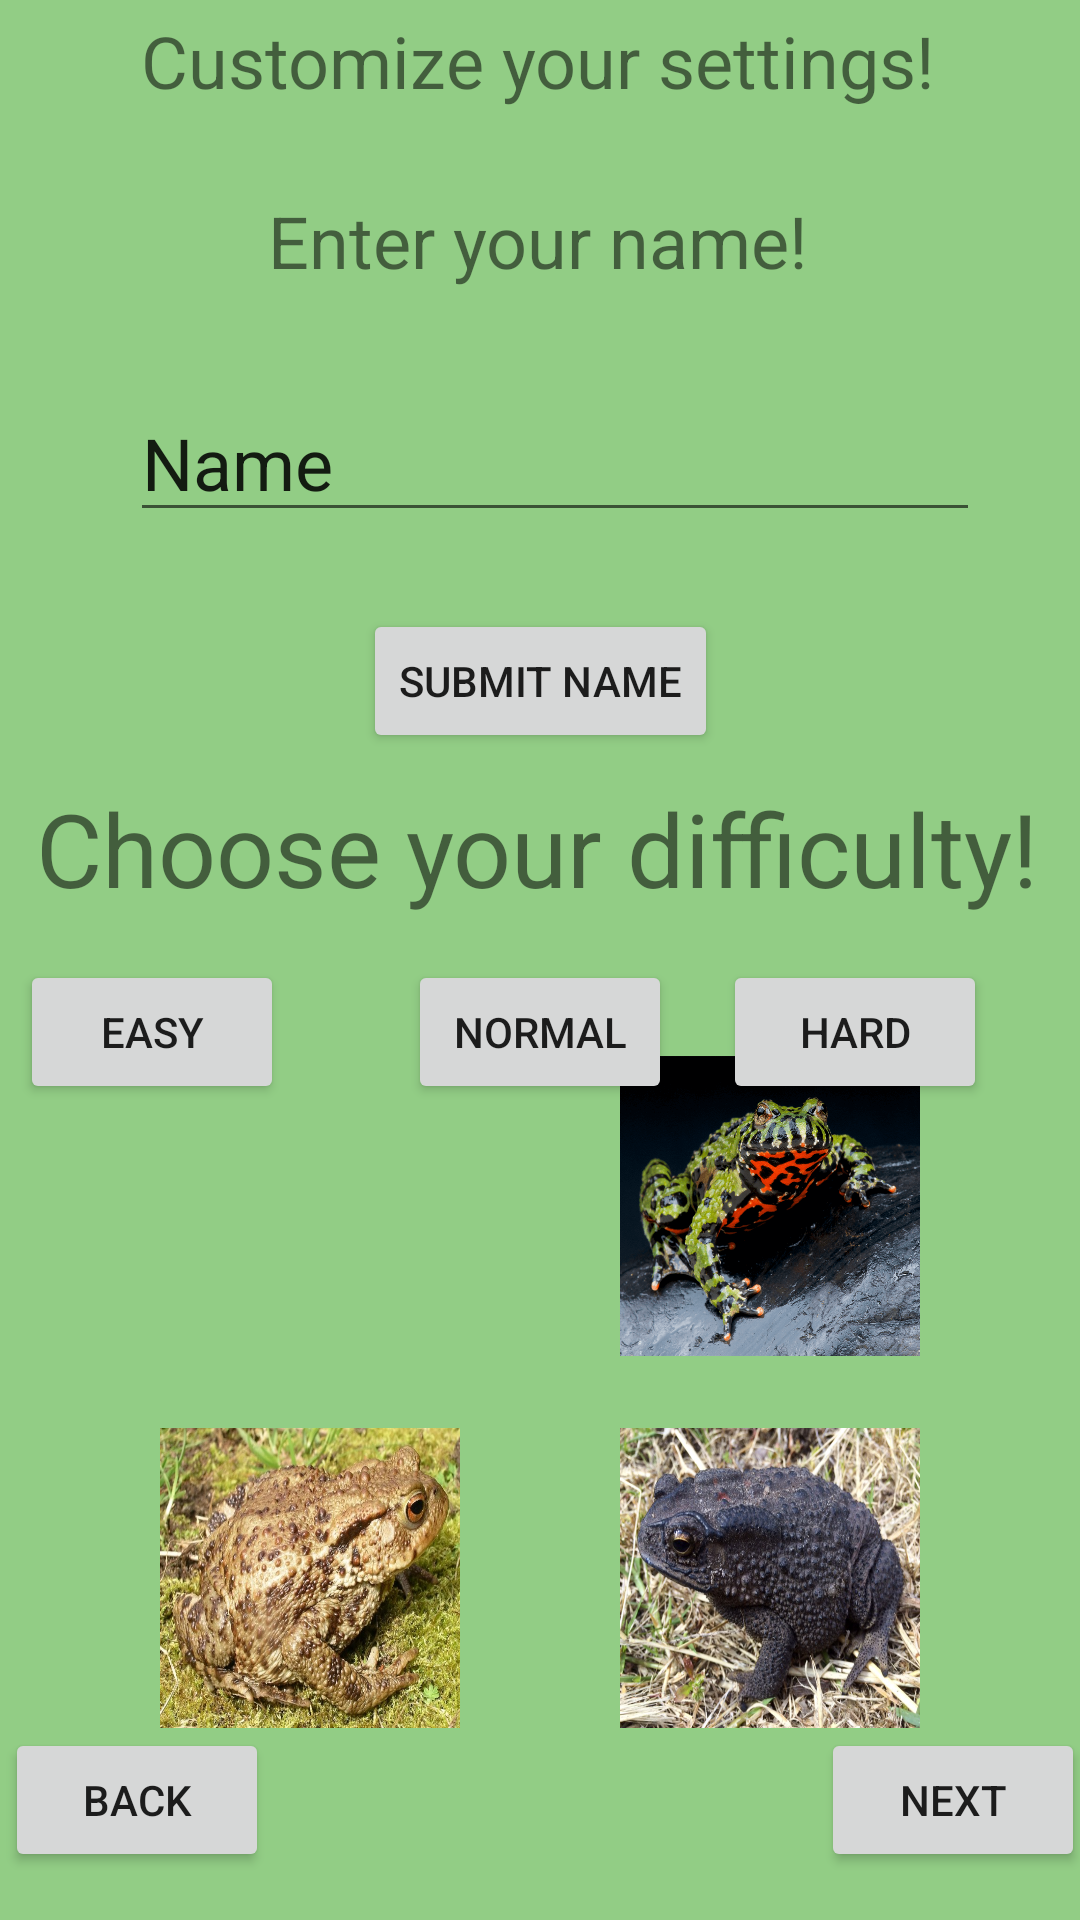

Named icons in this screenshot (1080px×1920px) and their centers, point (x, y):
Toad2: point (770, 1206)
Toad3: point (310, 1578)
Toad4: point (770, 1578)
